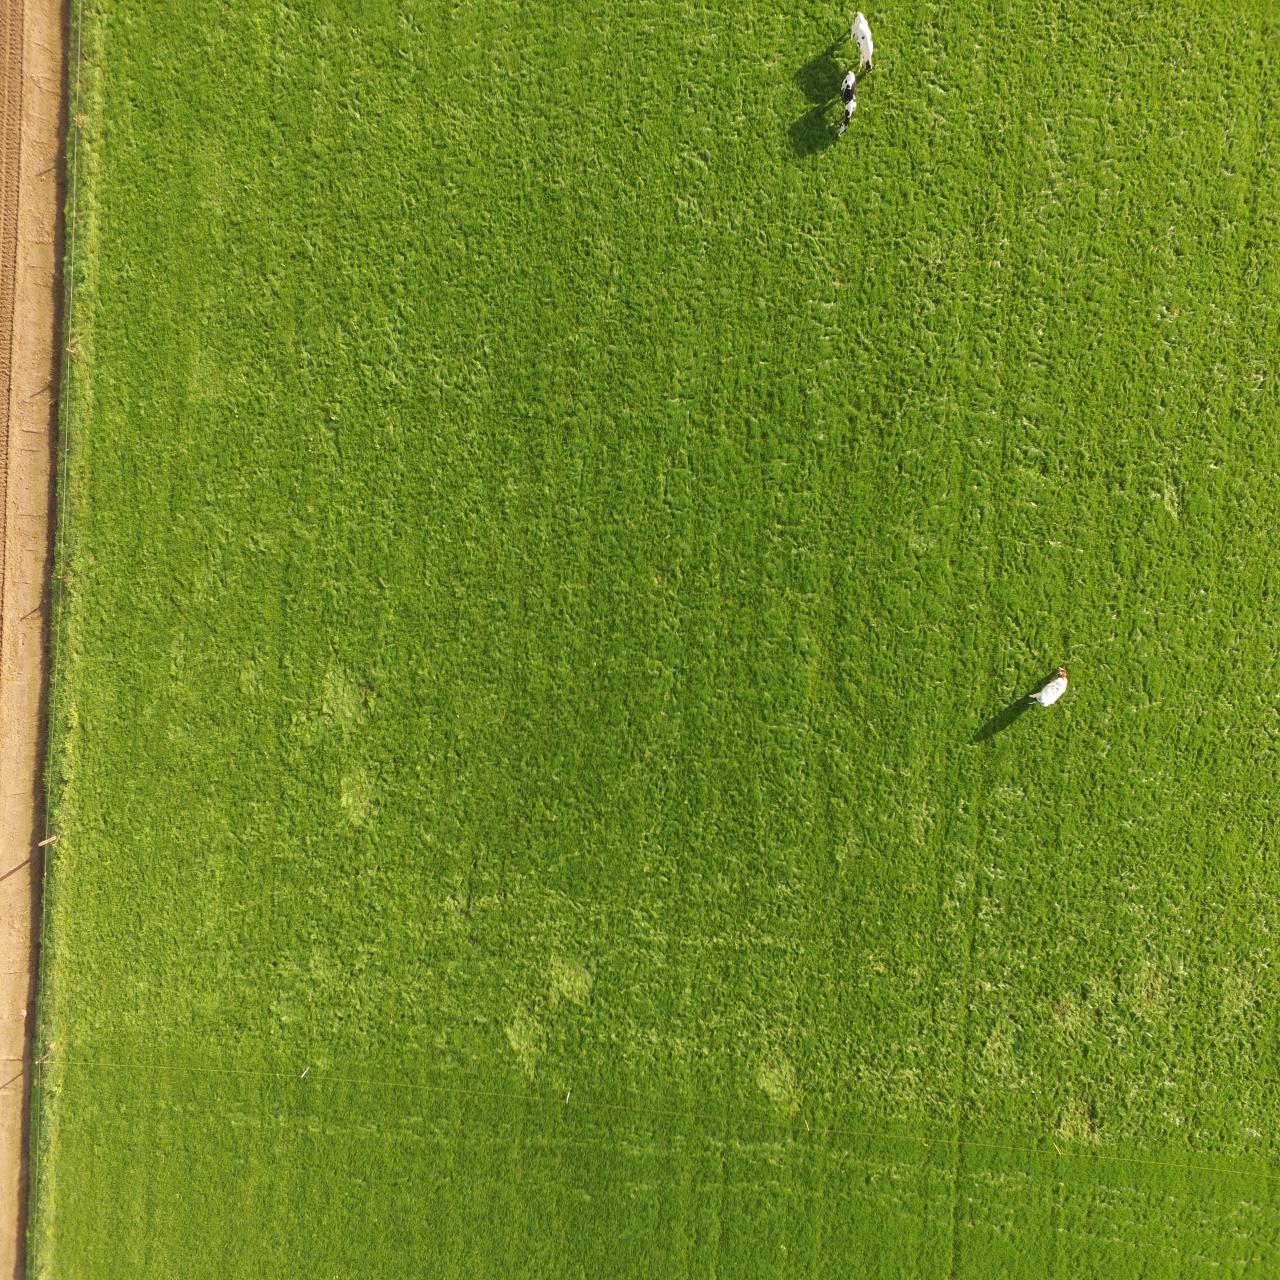cow: (1028, 665, 1069, 709), (849, 9, 876, 75), (837, 70, 858, 137)
